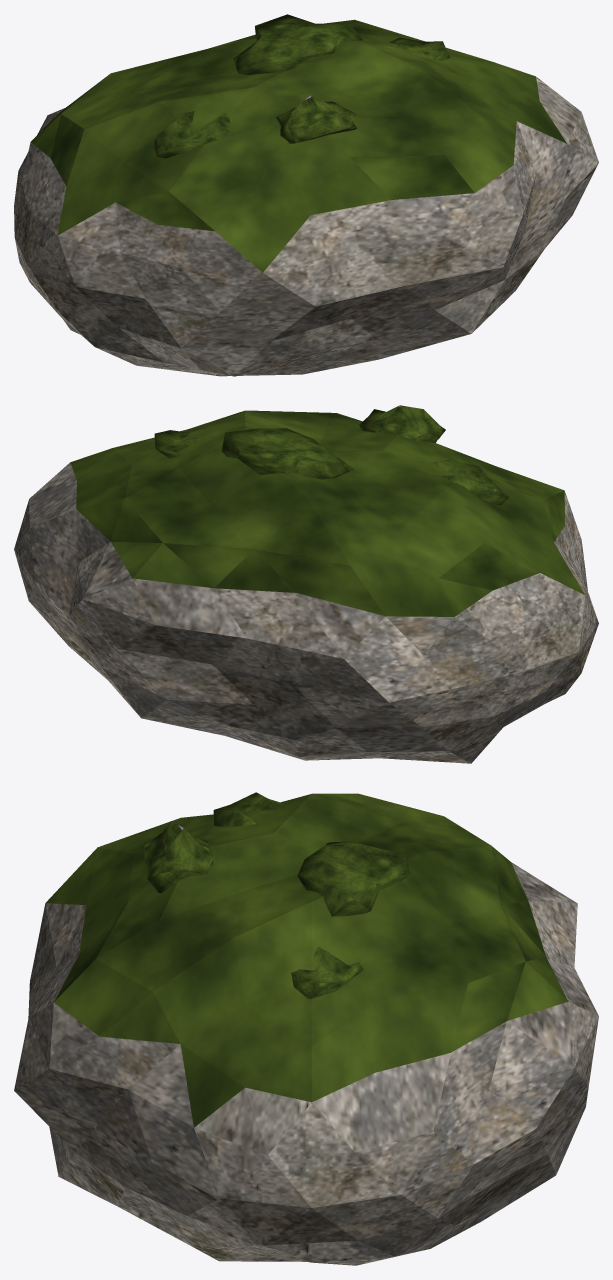
Rendered from rock_mossy.fbx.
3 views of the same model, one above another, from view 1: azimuth 30°, elevation 25°; view 2: azimuth 150°, elevation 25°; view 3: azimuth 270°, elevation 25° (orthographic). The views are drawn at different scales.
Visible parts, largest first — view 1: rock_mossy; view 2: rock_mossy; view 3: rock_mossy.
Boxes of the visible parts, x1,y1,x2,y2 form: rock_mossy: [14, 14, 598, 376]; rock_mossy: [14, 405, 598, 763]; rock_mossy: [14, 792, 598, 1265].
Size of what is drawn, in the model's own units: 1.41 by 0.7214 by 1.05.
Materials: 1 (1 with a texture image).
